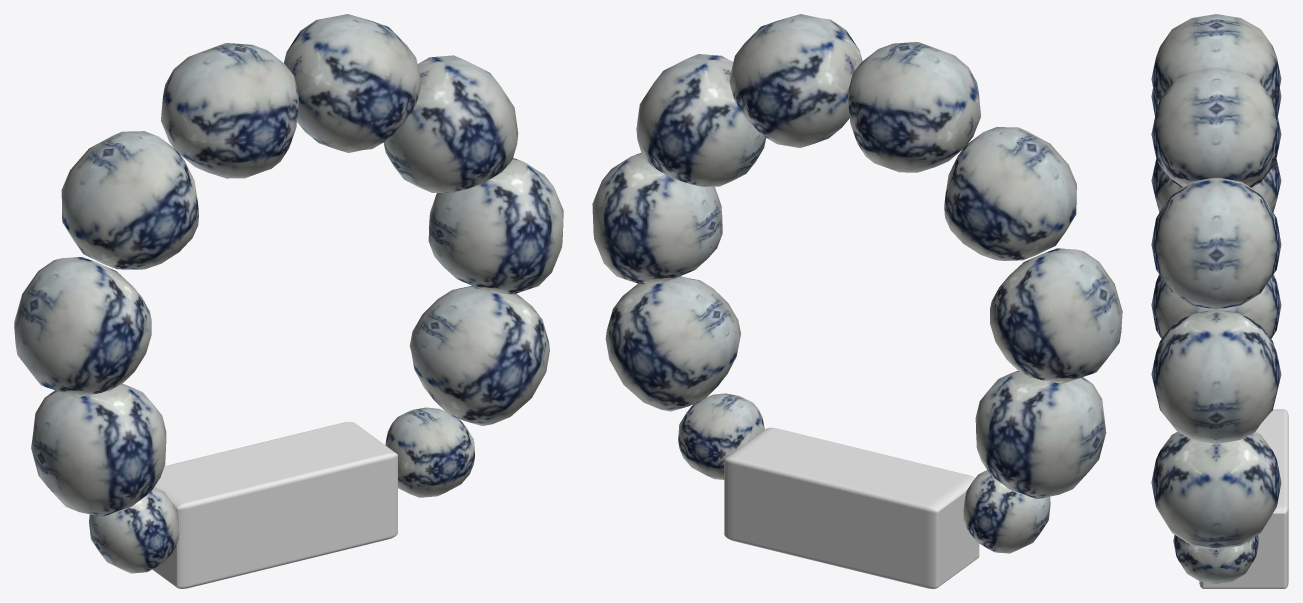
File: bangles_variant_three.glb
3 renders of one model, left to right at view 1: azimuth 30°, elevation 25°; view 2: azimuth 150°, elevation 25°; view 3: azimuth 270°, elevation 25°, orthographic. The views are drawn at different scales.
Visible parts, largest first — view 1: large_beads, brass, small_beads; view 2: large_beads, brass, small_beads; view 3: large_beads, brass, small_beads.
Part boxes in pixels (box(x1,y1,x2,y2)): large_beads: box(14, 14, 563, 516); brass: box(152, 421, 397, 588); small_beads: box(89, 407, 474, 573); large_beads: box(592, 14, 1122, 498); brass: box(724, 427, 979, 588); small_beads: box(678, 393, 1050, 553); large_beads: box(1151, 14, 1281, 549); brass: box(1199, 409, 1288, 588); small_beads: box(1173, 535, 1258, 583).
Bounding box in the file's own units: 0.5343 × 0.5004 × 0.1252.
1 material, 1 textured.
